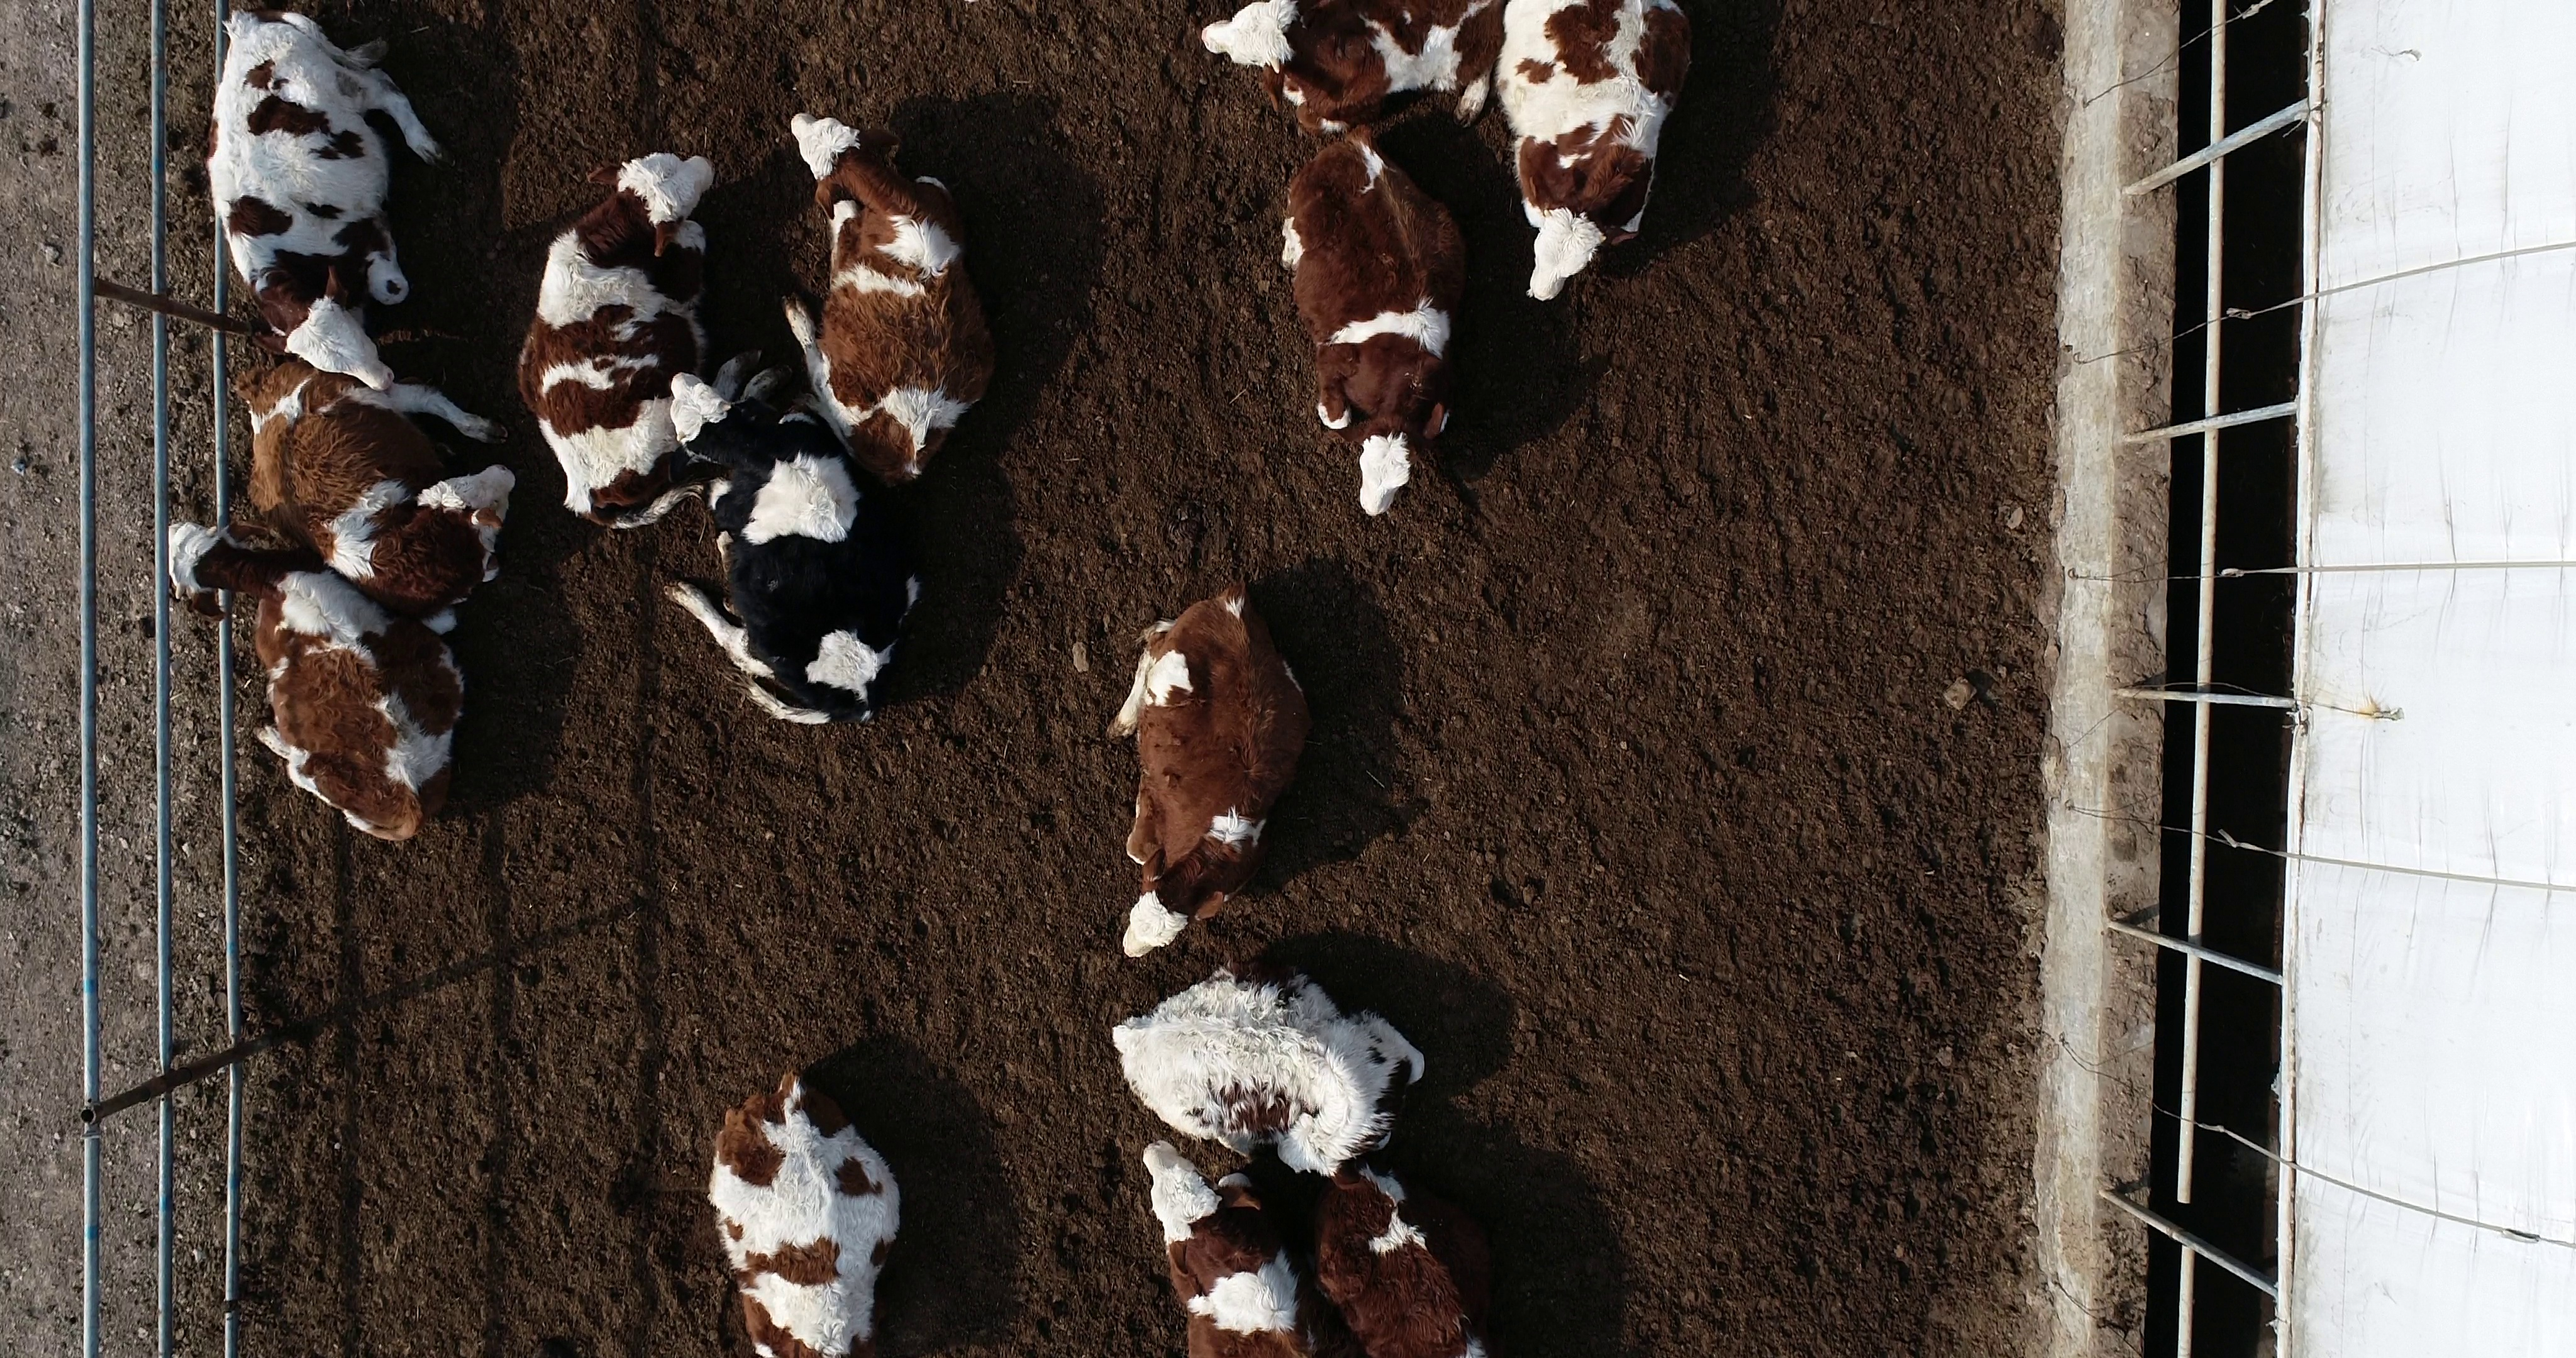cattle: (153, 513, 475, 845), (506, 150, 782, 535), (194, 7, 457, 395), (659, 370, 934, 736), (767, 104, 1005, 486), (1095, 578, 1319, 964), (1274, 121, 1472, 520), (1106, 966, 1436, 1184)
